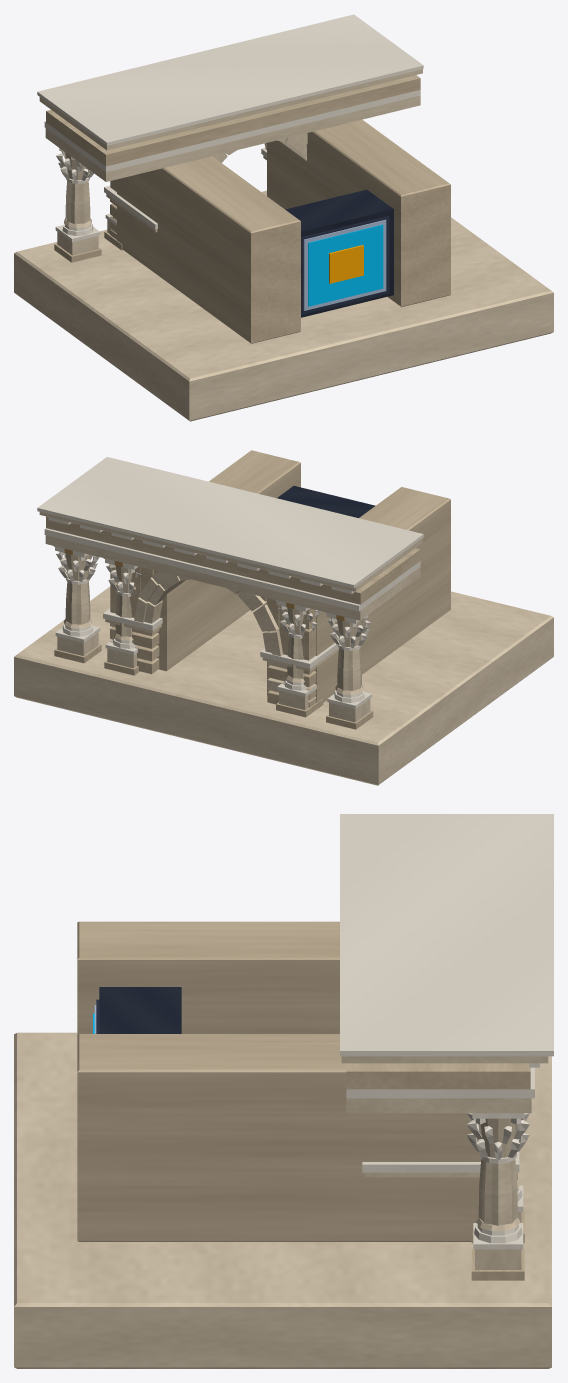
File: UMOD_05_North_Imperial_Reactor_Crest.obj
3 views of the same model, one above another, from view 1: azimuth 30°, elevation 25°; view 2: azimuth 150°, elevation 25°; view 3: azimuth 270°, elevation 25° (orthographic). The views are drawn at different scales.
Parts seen in each view (by area): view 1: UMOD_05_North_Imperial_Reactor_Crest; view 2: UMOD_05_North_Imperial_Reactor_Crest; view 3: UMOD_05_North_Imperial_Reactor_Crest.
Part boxes in pixels (x1,y1,x2,y2): UMOD_05_North_Imperial_Reactor_Crest: (14,14,553,421); UMOD_05_North_Imperial_Reactor_Crest: (14,450,553,785); UMOD_05_North_Imperial_Reactor_Crest: (14,814,553,1368).
Size of the model in its own units: 20.4 by 10.5 by 17.06.
9 materials, 9 textured.
